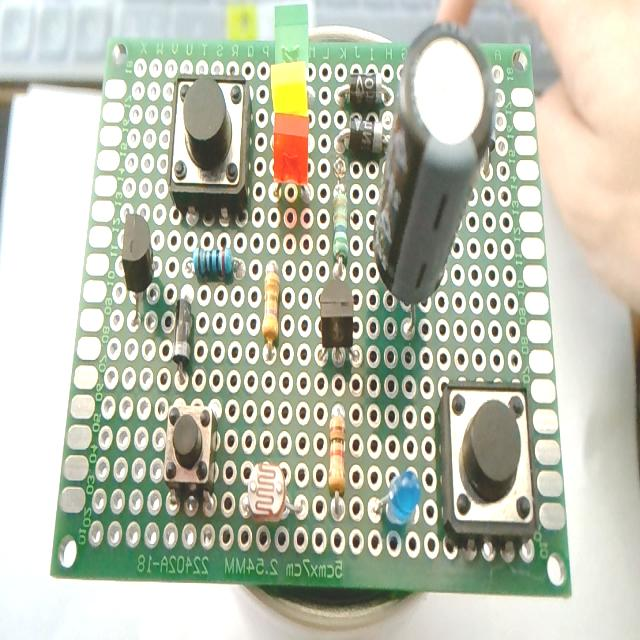Electrolytic capacitor: (369, 20, 499, 339)
cds: (238, 459, 306, 525)
diode: (171, 296, 193, 388), (332, 118, 390, 150), (344, 71, 382, 109)
led: (372, 466, 422, 526), (272, 121, 309, 185), (270, 61, 308, 119)
resistor: (187, 242, 245, 282), (327, 406, 347, 516), (332, 152, 348, 272), (262, 261, 280, 355)
switch: (434, 377, 536, 565), (166, 72, 258, 214), (162, 395, 218, 497)
transistor: (116, 207, 158, 331), (312, 278, 358, 382)
